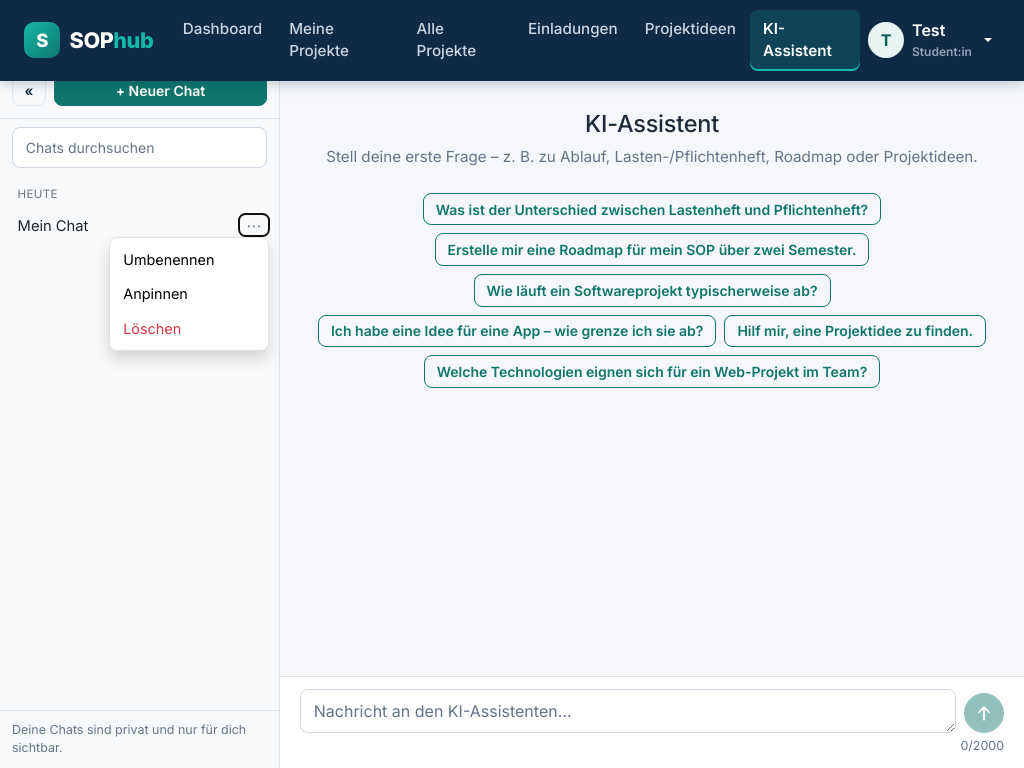
it: SopAssistent › löscht einen Chat erst nach Bestätigung im Dialog
Earlier steps of the test are not shown.
Later steps or results of the test are not shown.
(page scrolled)
Click the button "Löschen": (189, 328) [114,311,264,346]
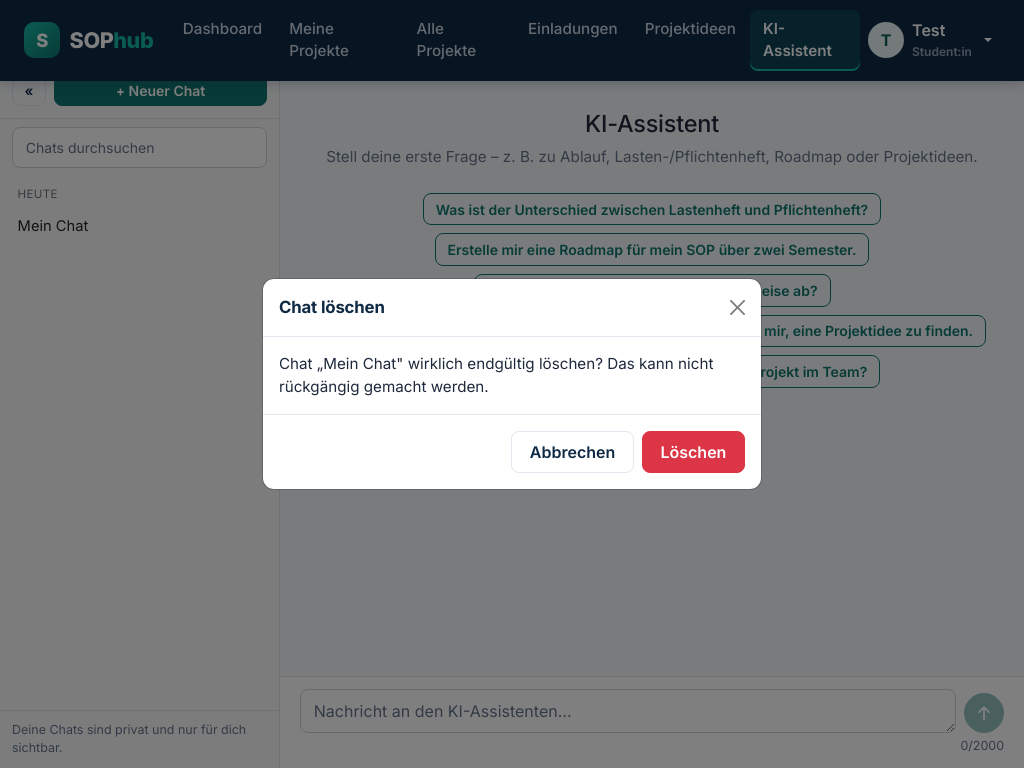
Result: the heading "Chat löschen" is shown at [279,295,385,320]
